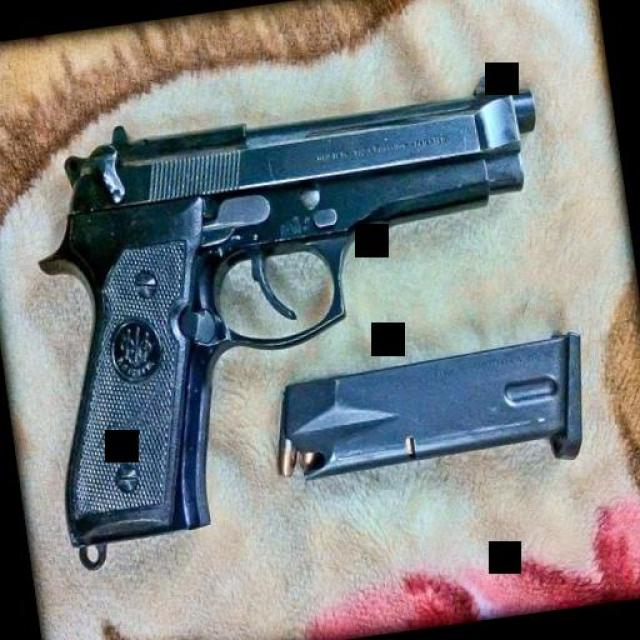gun: (14, 66, 590, 568)
